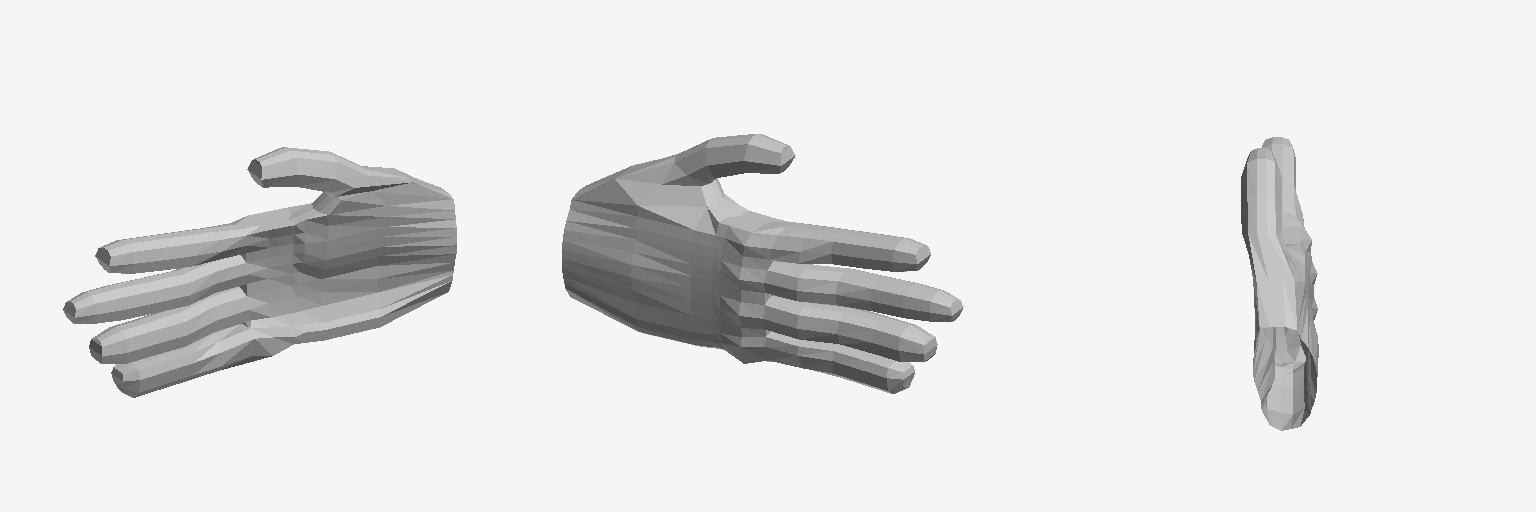
Rendered from hand.obj.
3 renders of one model, left to right at view 1: azimuth 30°, elevation 25°; view 2: azimuth 150°, elevation 25°; view 3: azimuth 270°, elevation 25°, orthographic.
Visible parts, largest first — view 1: JayBolter.001_Cylinder.001; view 2: JayBolter.001_Cylinder.001; view 3: JayBolter.001_Cylinder.001.
Boxes of the visible parts, <box> form: JayBolter.001_Cylinder.001: <box>63,147,456,397</box>; JayBolter.001_Cylinder.001: <box>562,134,963,393</box>; JayBolter.001_Cylinder.001: <box>1241,137,1318,430</box>.
Bounding box in the file's own units: 23.62 × 12.98 × 4.23.